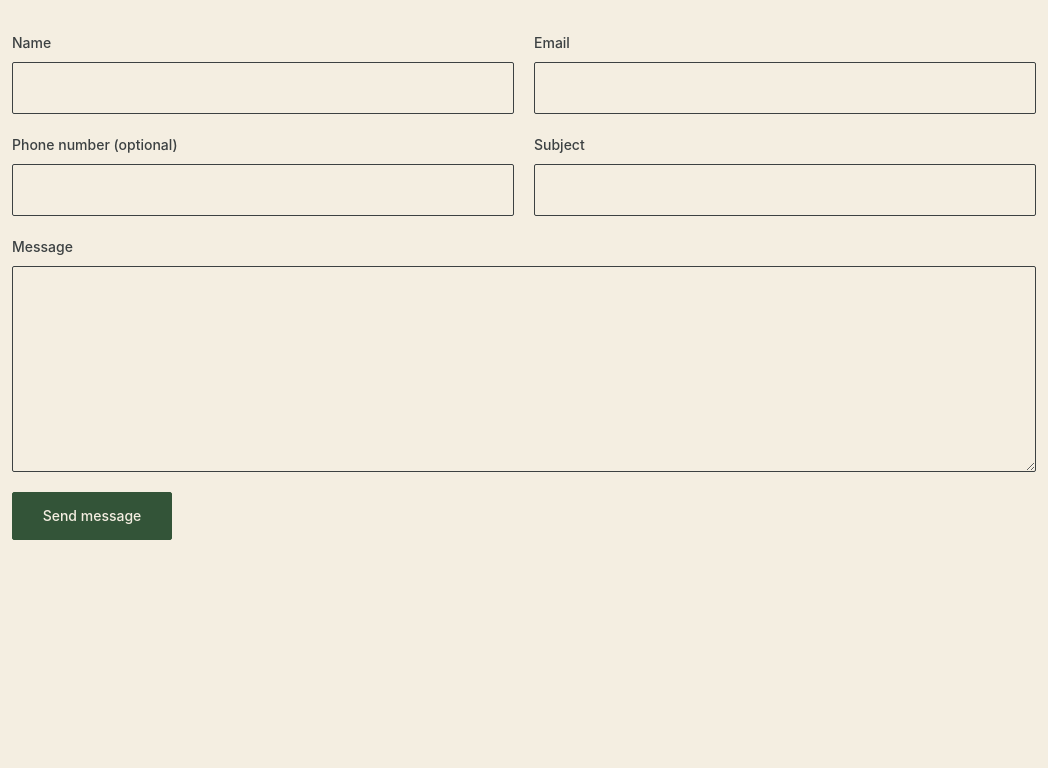
Test case: customer storefront refinements › submits through the CSRF-protected API and confirms success
In the field labelled "Name": (263, 88) [12, 62, 514, 114], type "Ada Okafor"
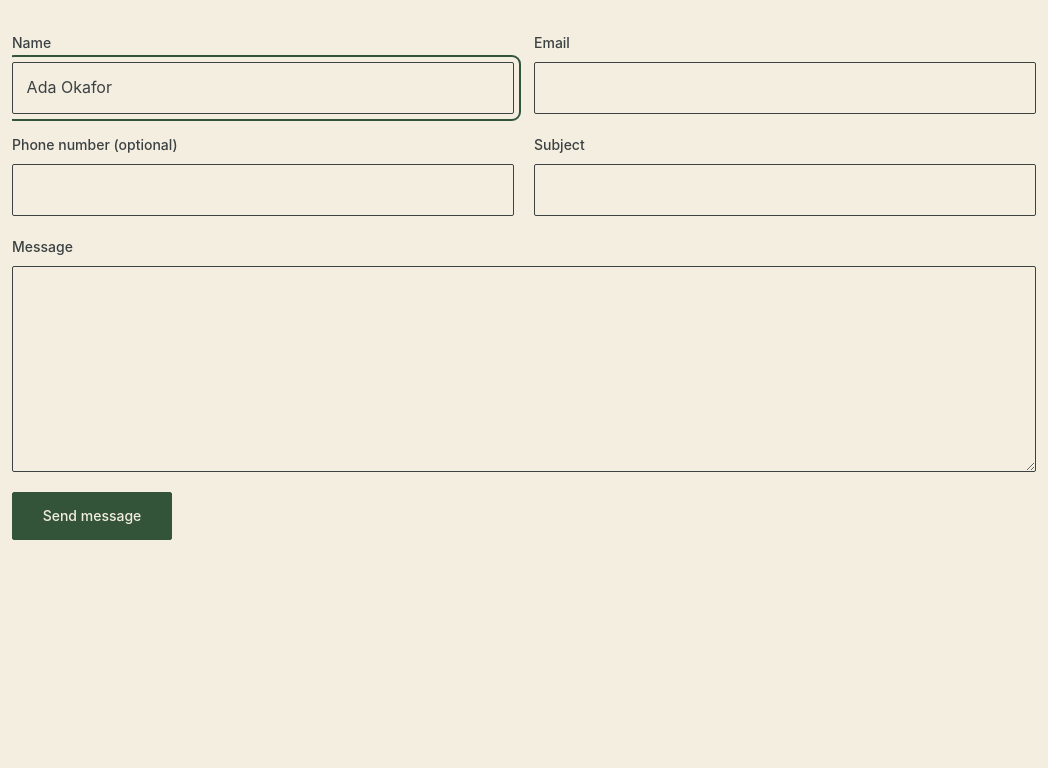
In the field labelled "Email": (785, 88) [534, 62, 1036, 114], type "ada@example.test"
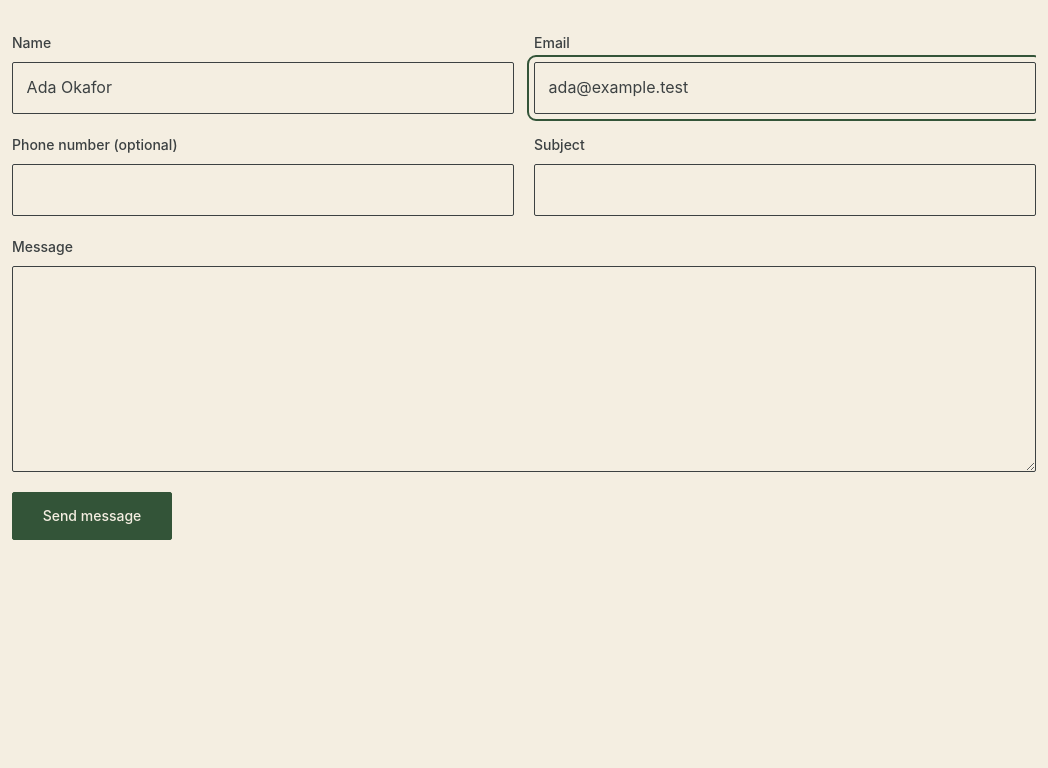
In the field labelled "Subject": (785, 190) [534, 164, 1036, 216], type "A basket question"
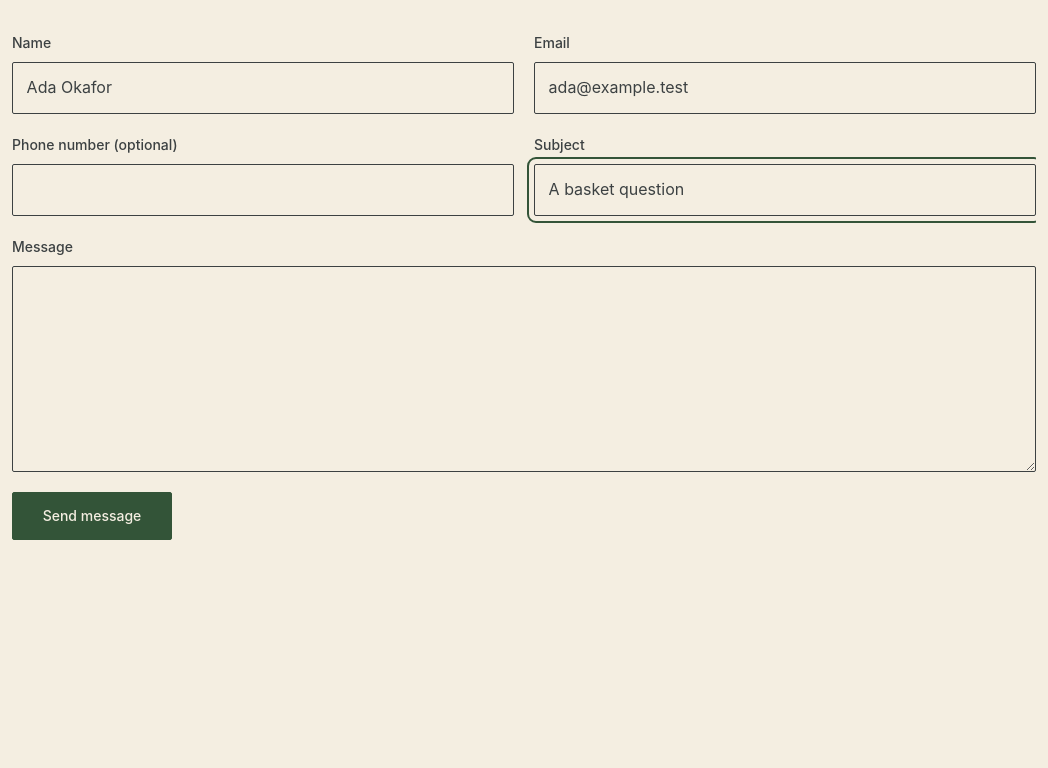
In the text box labelled "Message": (524, 369) [12, 266, 1036, 472], type "Can you help me find this basket?"
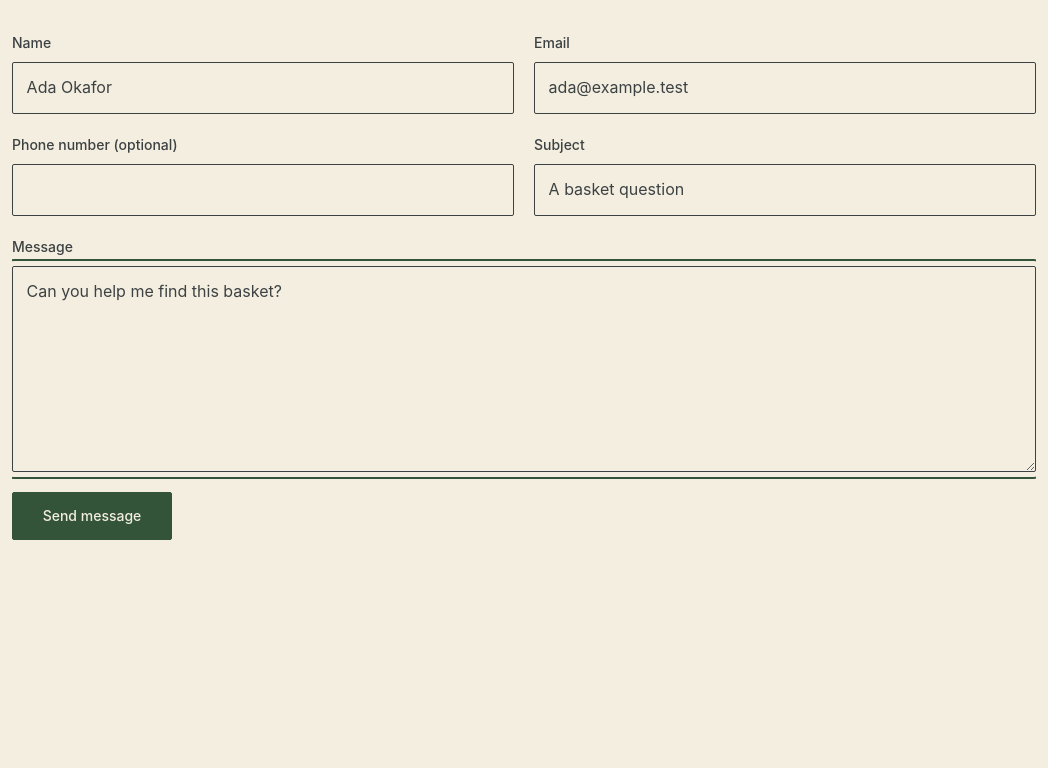
Click the button "Send message": (92, 516) [12, 492, 172, 540]
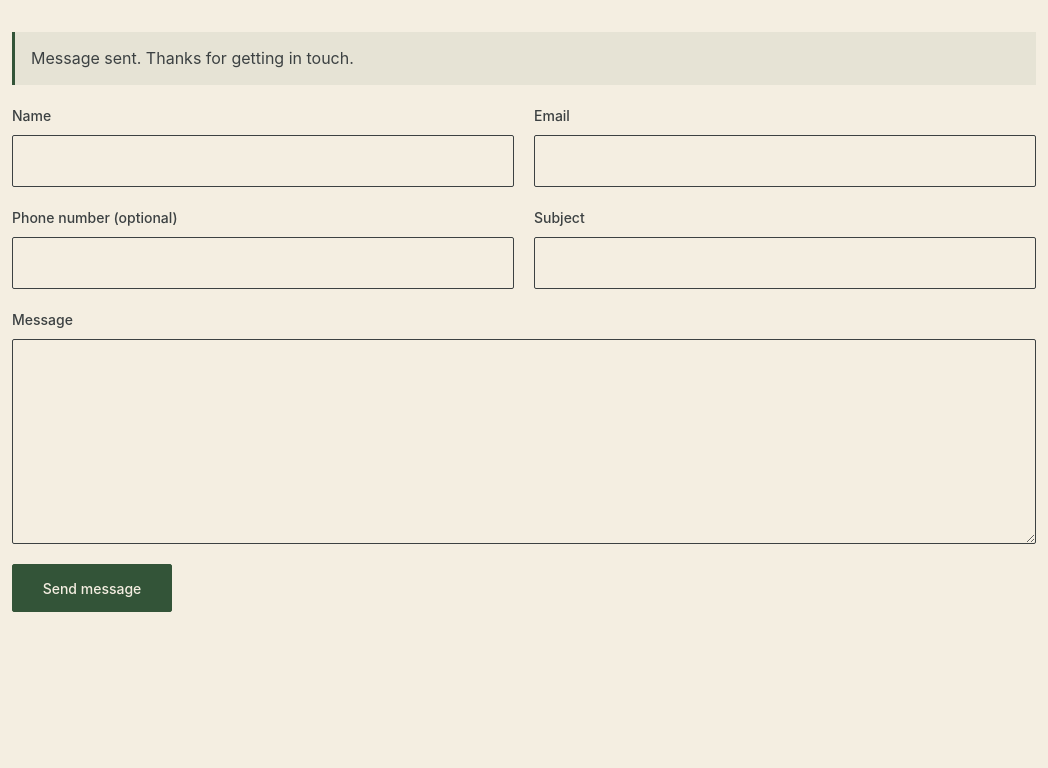
Expected: the message shows "Message sent", [31, 48, 354, 68]
